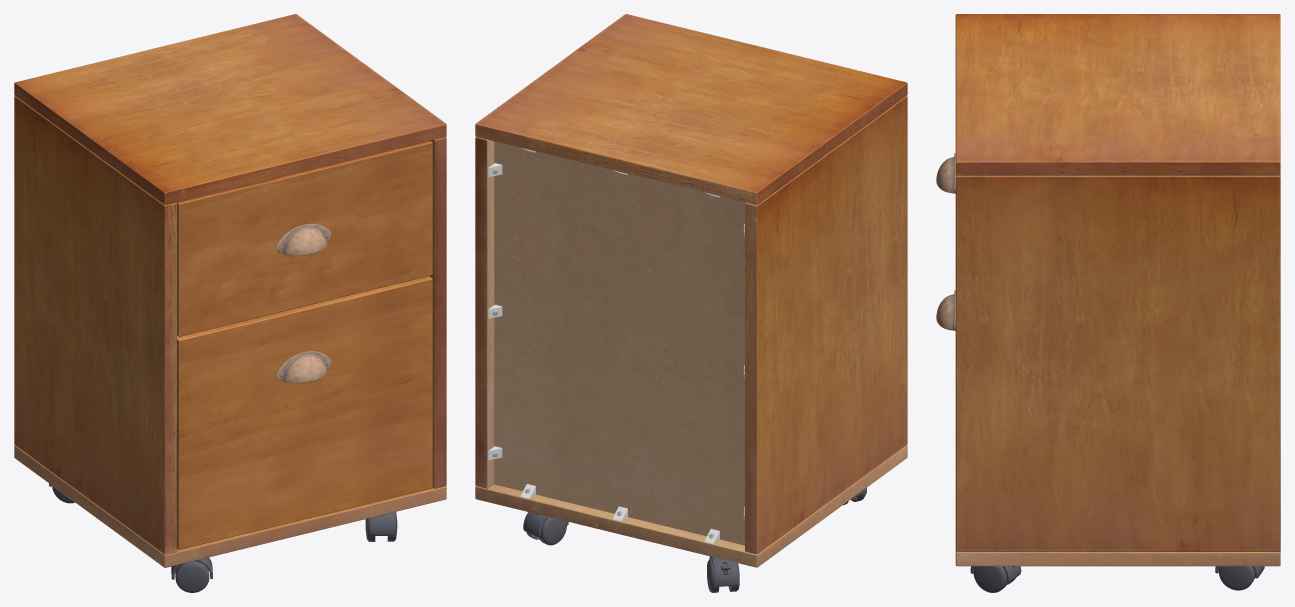
Rendered from B082JGPBLQ.glb.
The picture shows the model from 3 angles, left to right: view 1: azimuth 30°, elevation 25°; view 2: azimuth 150°, elevation 25°; view 3: azimuth 270°, elevation 25°; orthographic projection. The views are drawn at different scales.
Parts seen in each view (by area): view 1: RootNode; view 2: RootNode; view 3: RootNode.
Part boxes in pixels (x1,y1,x2,y2): RootNode: (14,14,446,592); RootNode: (475,14,907,592); RootNode: (936,14,1280,592).
Size of the model in its own units: 0.4089 by 0.5791 by 0.4012.
Materials: 1 (1 with a texture image).
